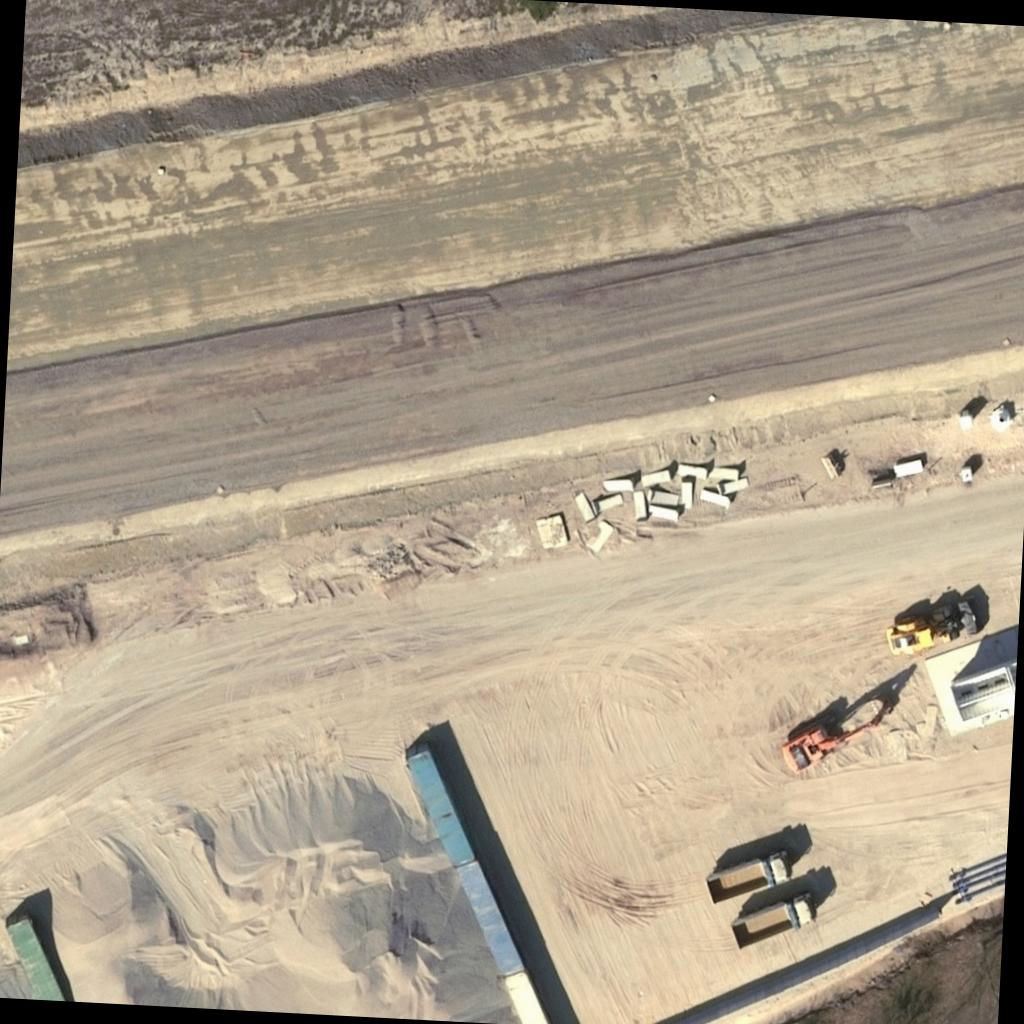ciezarowka: (725, 884, 824, 960), (701, 842, 798, 914)
kontener: (450, 862, 528, 976), (404, 751, 480, 866), (4, 917, 68, 1000), (503, 972, 552, 1024)
koparka: (772, 684, 900, 786), (882, 591, 983, 667)
